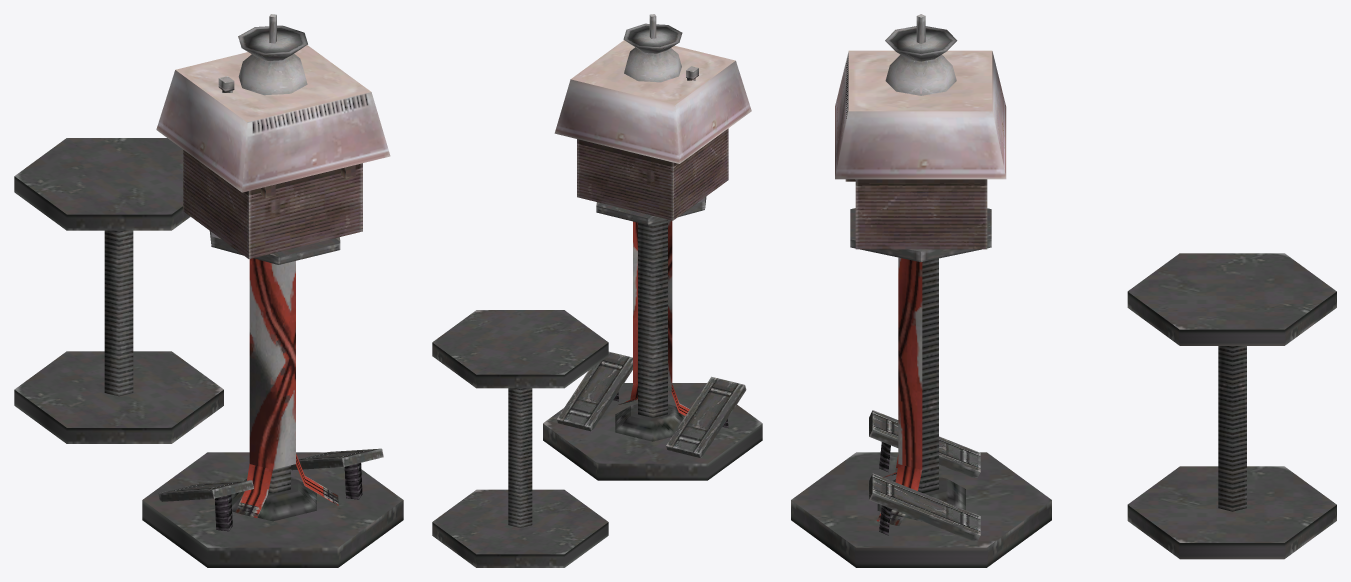
The model's file is eqp_music_ommni_box_l1.fbx.
The picture shows the model from 3 angles, left to right: view 1: azimuth 30°, elevation 25°; view 2: azimuth 150°, elevation 25°; view 3: azimuth 270°, elevation 25°; orthographic projection. The views are drawn at different scales.
Visible parts, largest first — view 1: mesh_node; view 2: mesh_node; view 3: mesh_node.
Boxes of the visible parts, x1,y1,x2,y2 form: mesh_node: [14, 14, 403, 567]; mesh_node: [432, 14, 762, 567]; mesh_node: [791, 14, 1336, 567].
Size of the model in its own units: 0.3822 by 0.9459 by 0.9232.
